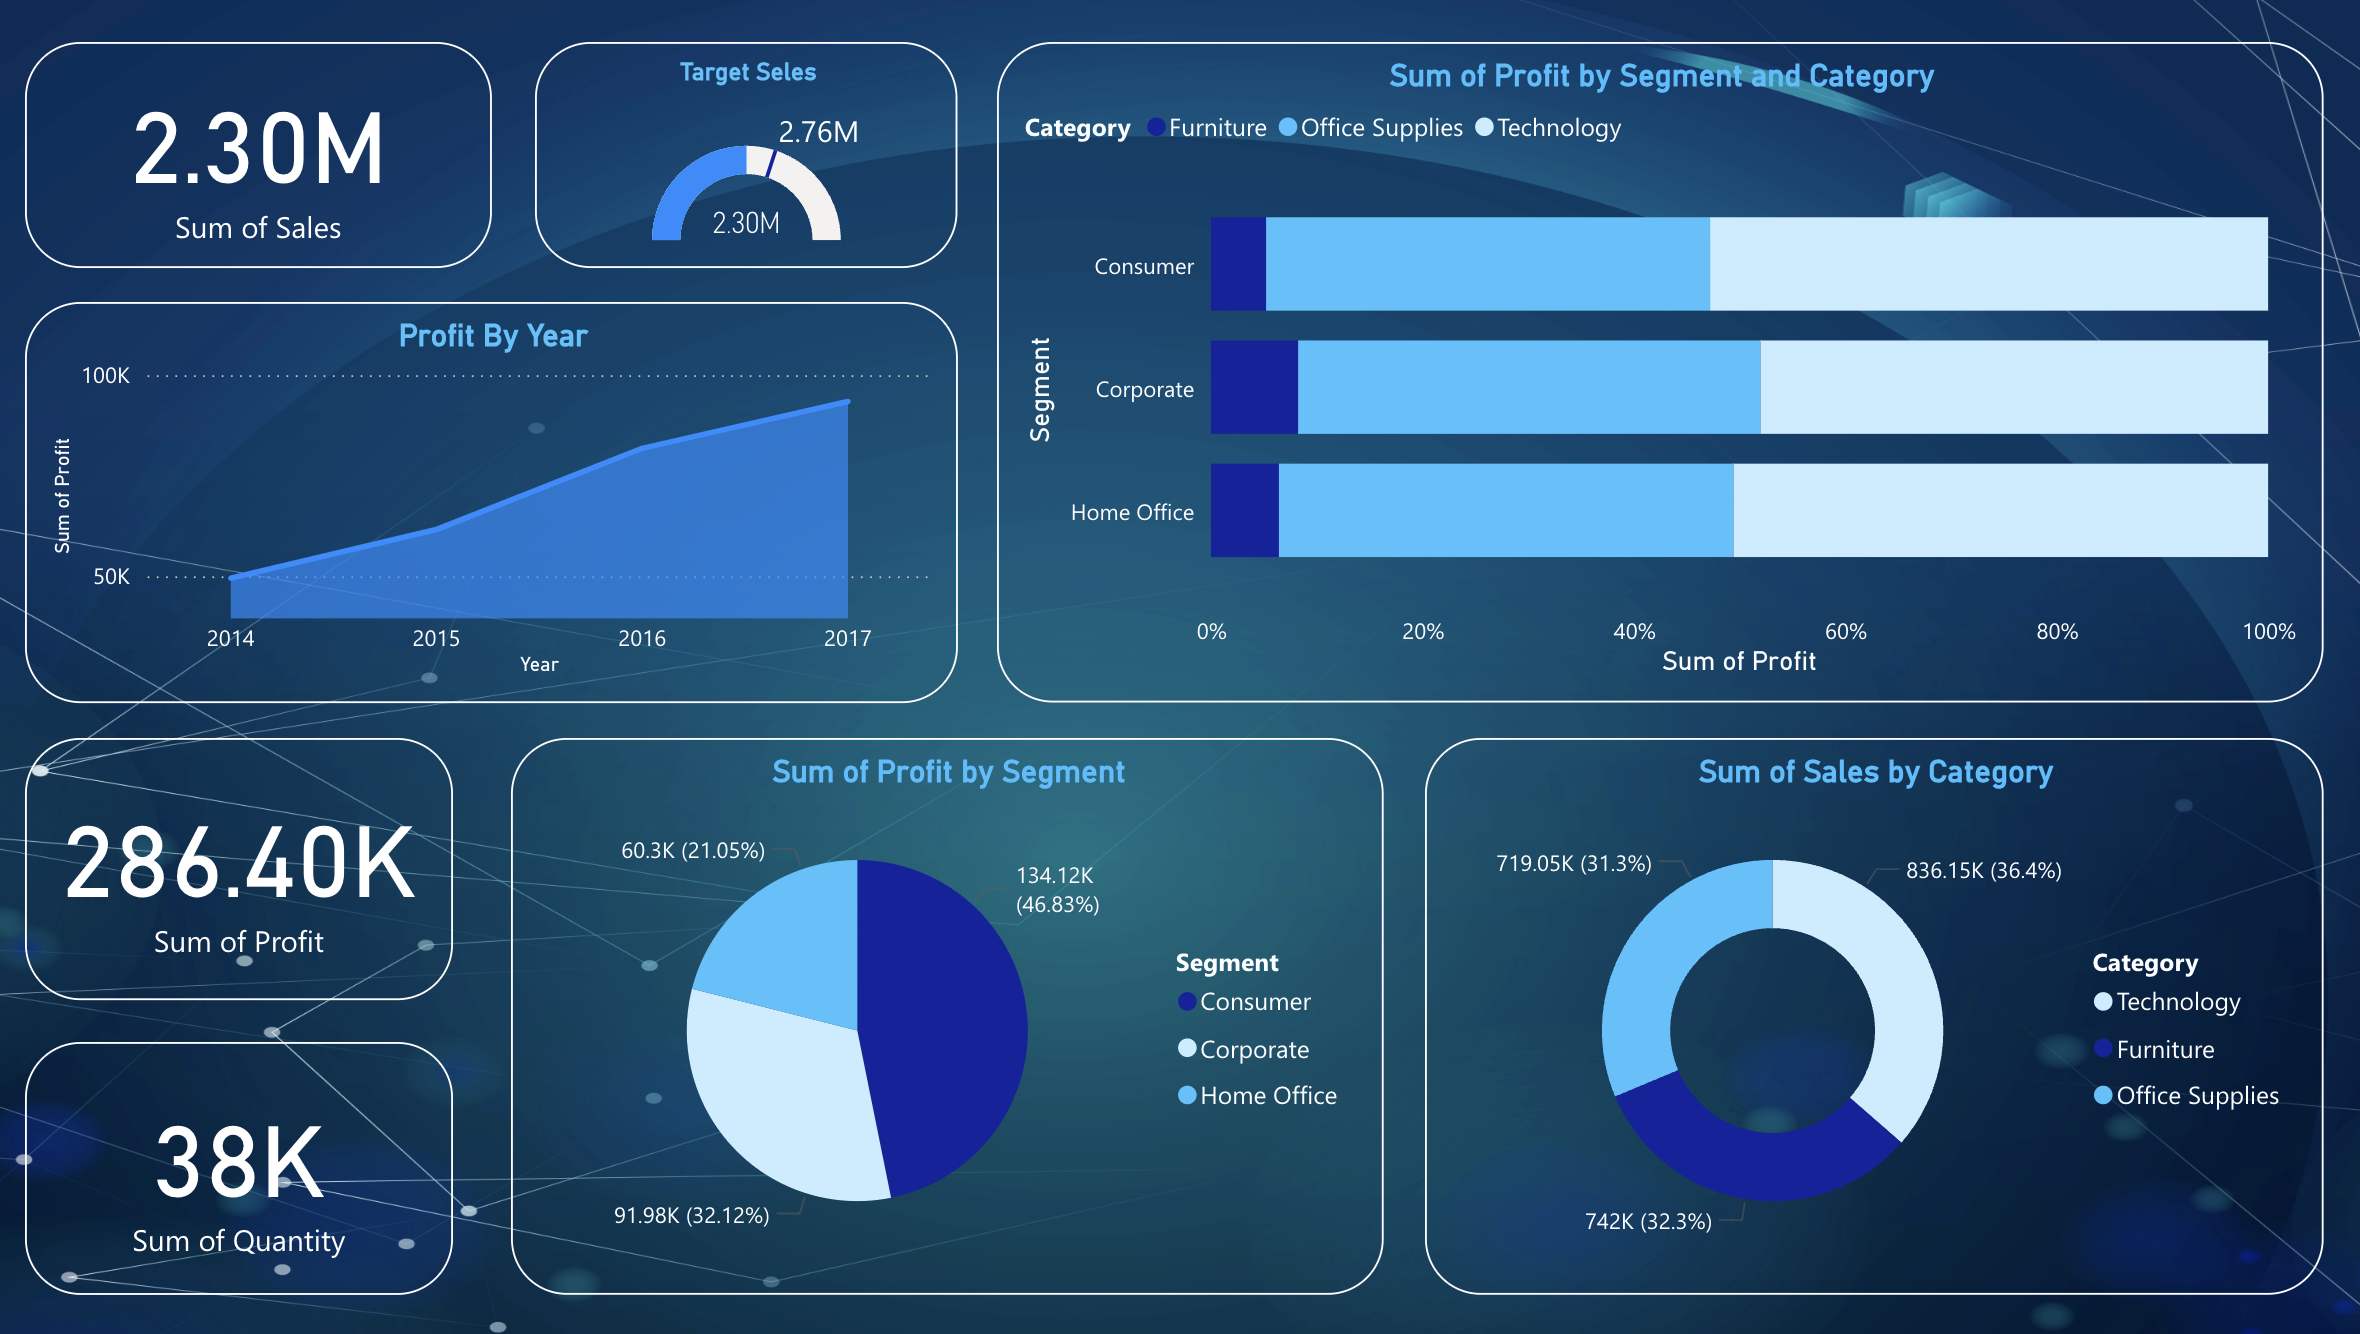

The dashboard page shown, as its layout file describes it:
{"tool":"powerbi","page":{"name":"Page 1","canvas":[1280,720],"ordinal":0},"visuals":[{"type":"card","title":"Total Seles","fields":{"Values":["Sum(superstore 2.Sales)"]},"box":[23.6,22.3,251.8,122],"z":0},{"type":"card","title":"Total Seles","fields":{"Values":["Sum(superstore 2.Quantity)"]},"box":[23.6,562.6,230.8,136.4],"z":1000},{"type":"card","title":"Total Seles","fields":{"Values":["Sum(superstore 2.Profit)"]},"box":[23.6,398.7,230.8,141.6],"z":2000},{"type":"hundredPercentStackedBarChart","fields":{"Category":["superstore 2.Segment"],"Series":["superstore 2.Category"],"Y":["Sum(superstore 2.Profit)"]},"box":[548.2,22.3,716.1,356.7],"z":4000},{"type":"pieChart","fields":{"Category":["superstore 2.Segment"],"Y":["Sum(superstore 2.Profit)"]},"box":[285.9,398.7,470.8,300.3],"z":5000},{"type":"donutChart","fields":{"Category":["superstore 2.Category"],"Y":["Sum(superstore 2.Sales)"]},"box":[779,398.7,485.2,300.3],"z":6000},{"type":"gauge","title":"Target Seles","fields":{"Y":["Sum(superstore 2.Sales)"],"TargetValue":["select"]},"box":[299,22.3,228.2,122],"z":6001},{"type":"lineChart","title":"Profit By Year","fields":{"Category":["superstore 2.OrderDate.Variation.Date Hierarchy.Year"],"Y":["Sum(superstore 2.Profit)"]},"box":[23.6,162.6,503.6,216.4],"z":6002}]}

Visuals, with their boxes in screenshot pixels (x1, y1, x2, y2), scaled from the page's 1280x720 canvas onto the 2360x1334 screenshot:
"Total Seles" card: bbox=(44, 41, 508, 267)
"Total Seles" card: bbox=(44, 1042, 469, 1295)
"Total Seles" card: bbox=(44, 739, 469, 1001)
hundredPercentStackedBarChart - superstore 2.Segment x superstore 2.Category: bbox=(1011, 41, 2331, 702)
pieChart - superstore 2.Segment x Sum(superstore 2.Profit): bbox=(527, 739, 1395, 1295)
donutChart - superstore 2.Category x Sum(superstore 2.Sales): bbox=(1436, 739, 2331, 1295)
"Target Seles" gauge: bbox=(551, 41, 972, 267)
"Profit By Year" lineChart: bbox=(44, 301, 972, 702)
